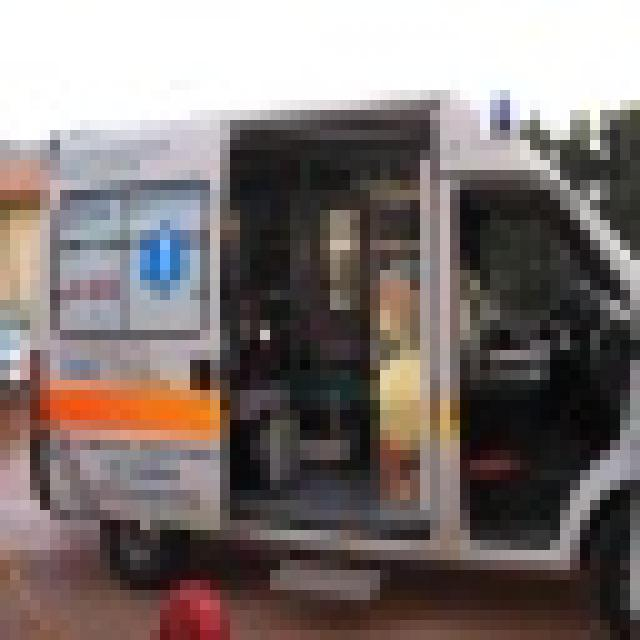Ambulance: (20, 80, 630, 630)
